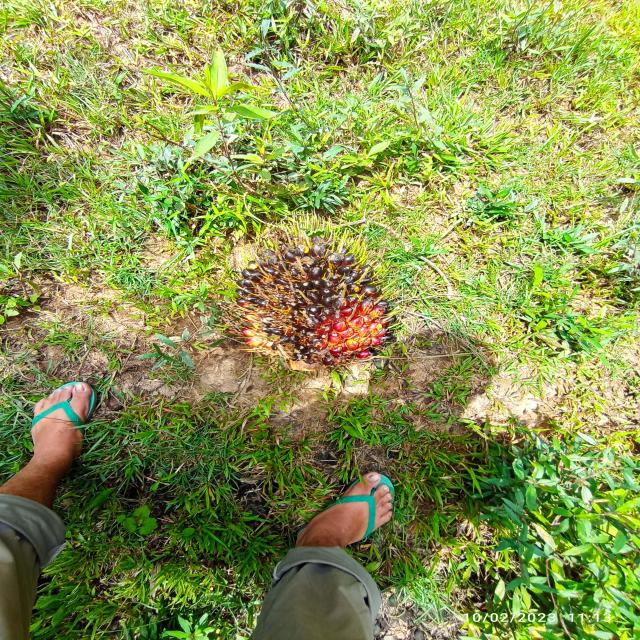fraksi 00: (195, 220, 431, 405)
